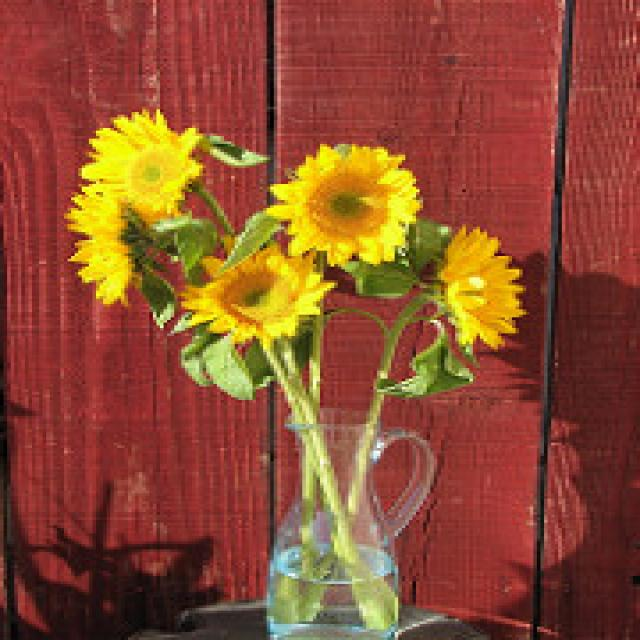sunflower: (260, 133, 430, 275), (68, 106, 210, 218), (178, 243, 338, 341), (423, 219, 526, 357), (39, 192, 142, 309)
